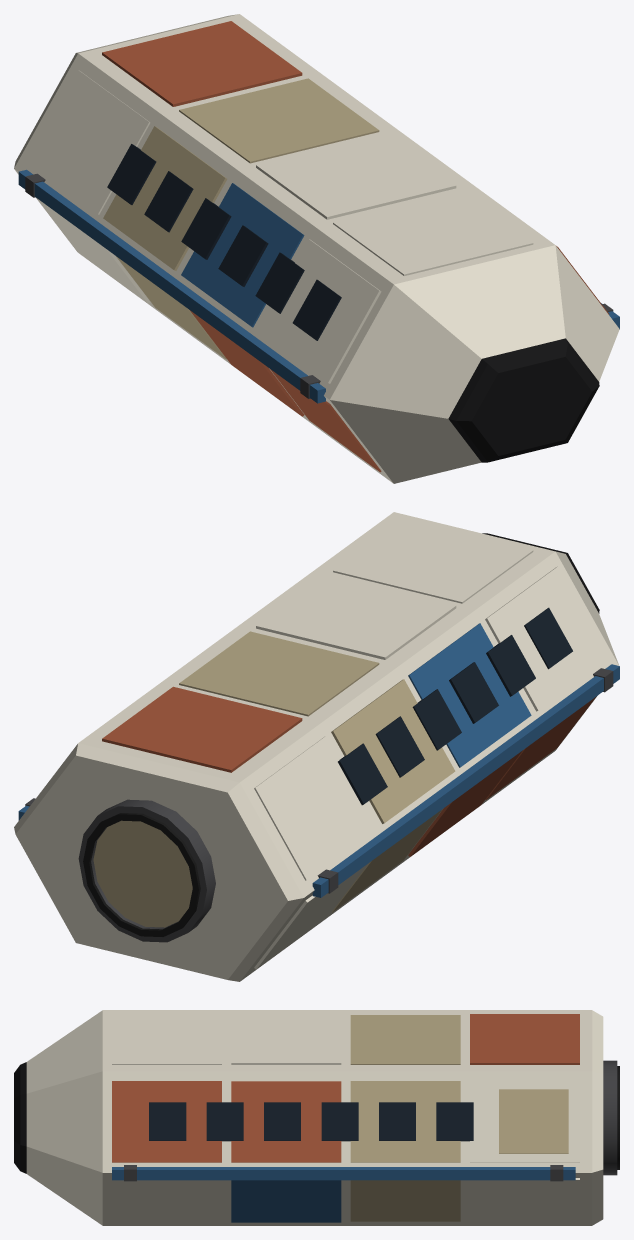
The model's file is boat20_hull.obj.
3 views of the same model, one above another, from view 1: azimuth 30°, elevation 25°; view 2: azimuth 150°, elevation 25°; view 3: azimuth 270°, elevation 25° (orthographic). The views are drawn at different scales.
Visible parts, largest first — view 1: boat20_hull; view 2: boat20_hull; view 3: boat20_hull.
Part boxes in pixels (x1,y1,x2,y2): boat20_hull: (14,14,619,483); boat20_hull: (14,512,619,981); boat20_hull: (14,1010,619,1225).
Bounding box in the file's own units: 2.94 × 1.89 × 6.54.
